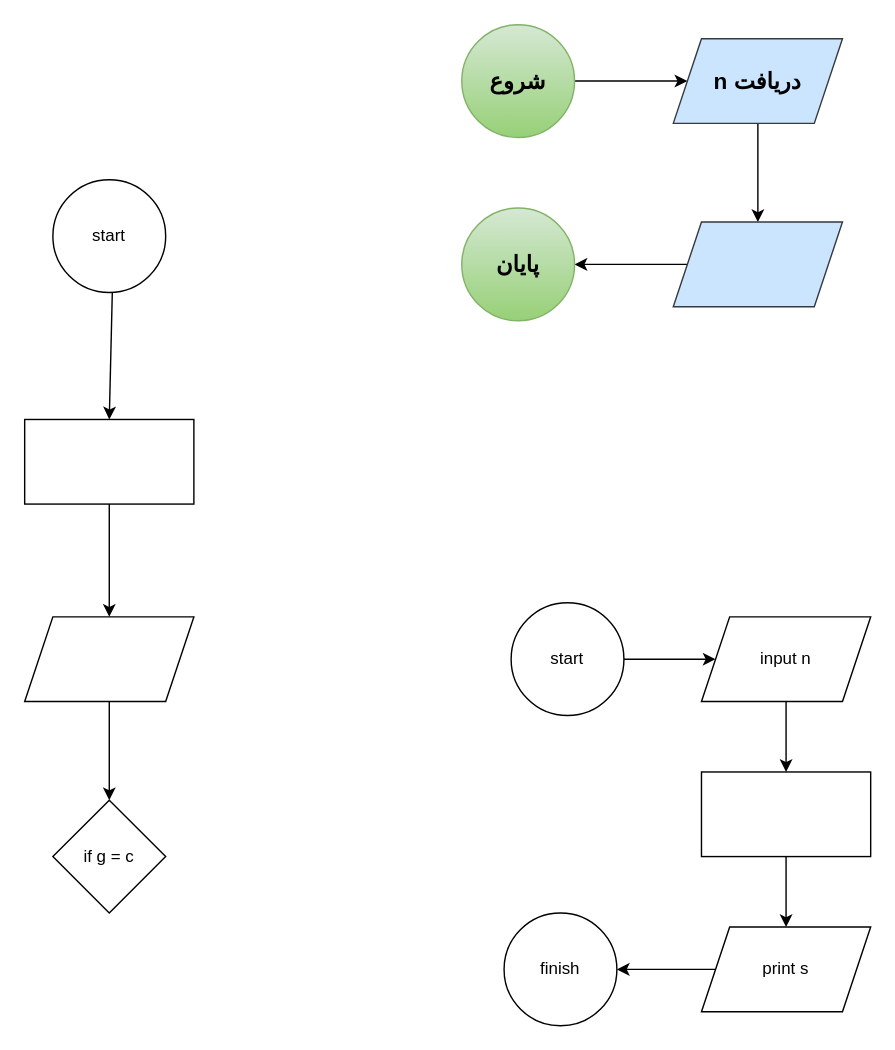
Image size: 895x1050. Some labels were removed from this diagram. The shapes that lost their labels are listed below. From the top down, each one's centre as x and y in pixels, then its label:
[757,264]: n چاپ
[108,461]: c = 50
[108,658]: input g
[785,814]: s = m * 2
